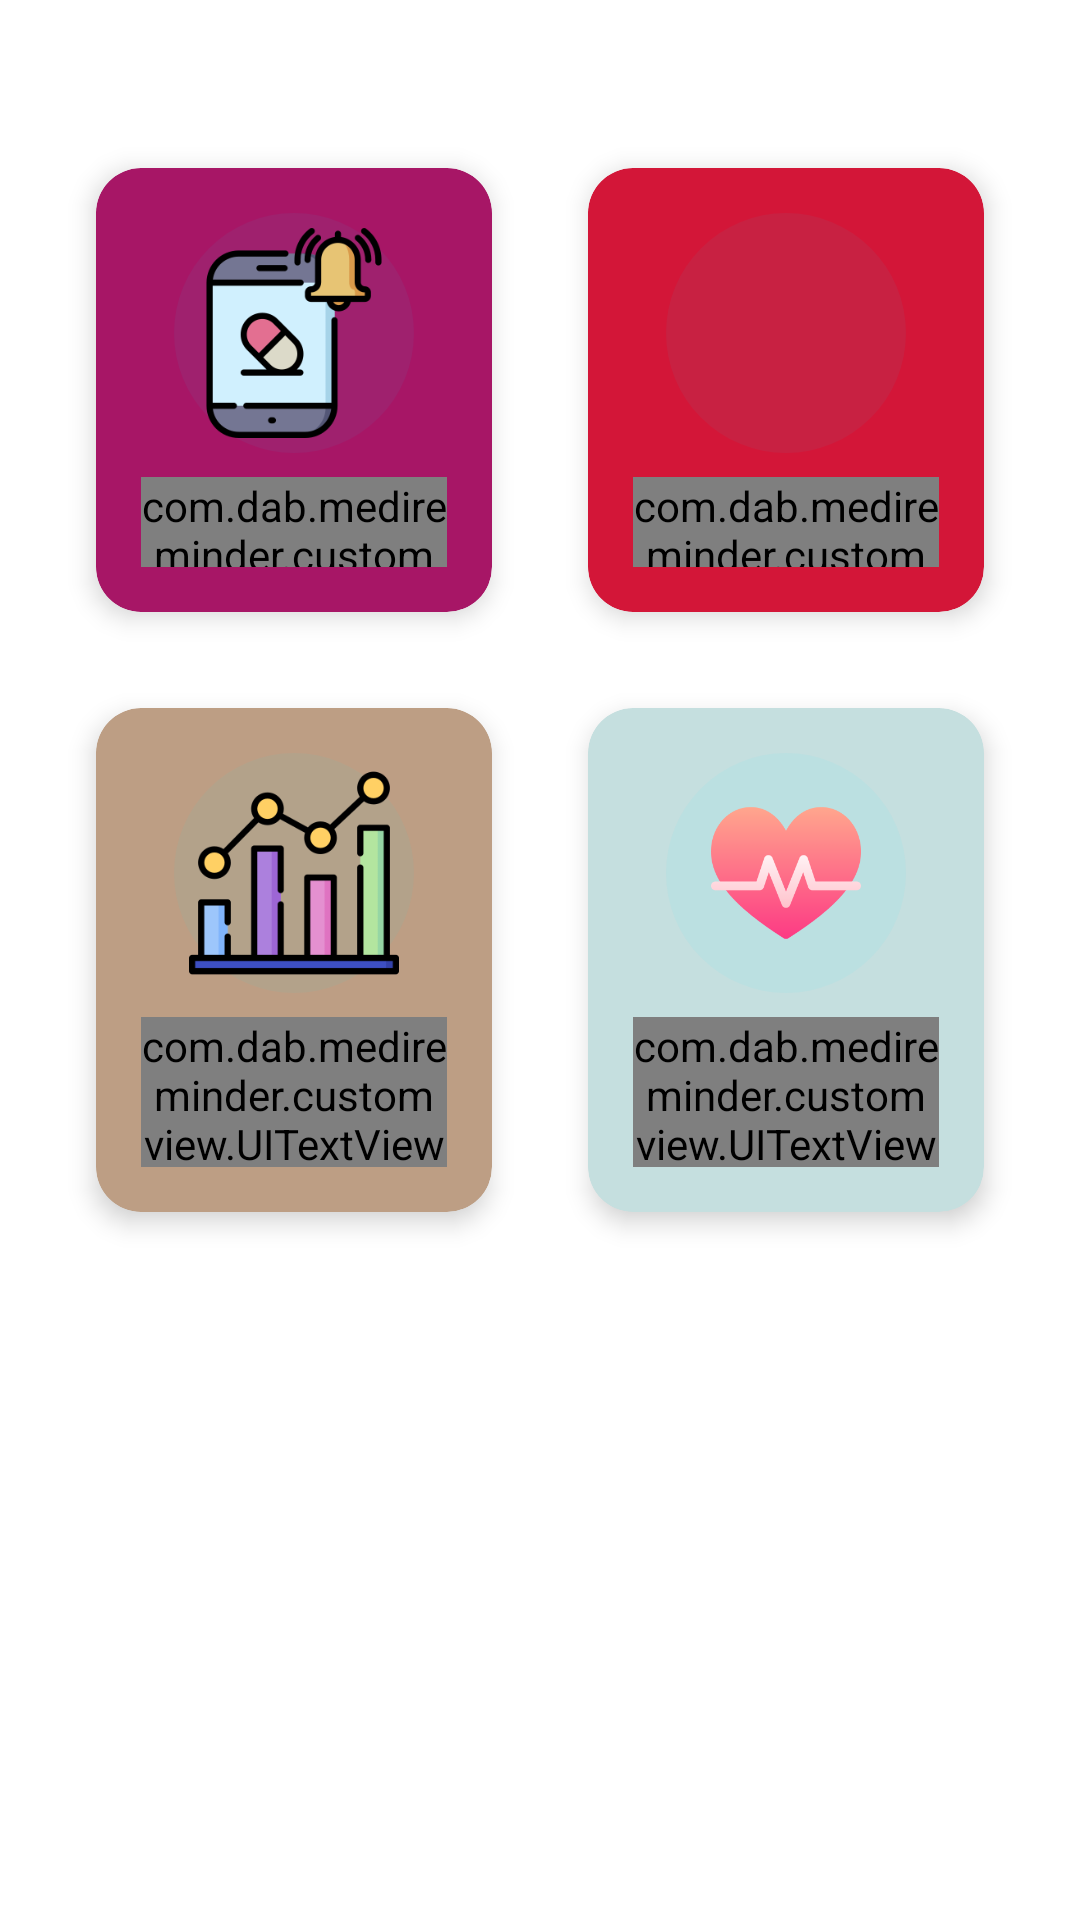

Screen size 1080w x 1920h. Icon name, then its box in pixels as [x1=x1, y1=y1, x2=x2, y2=y2]:
bar chart: [x1=174, y1=753, x2=414, y2=993]
blood pressure: [x1=711, y1=807, x2=861, y2=939]
